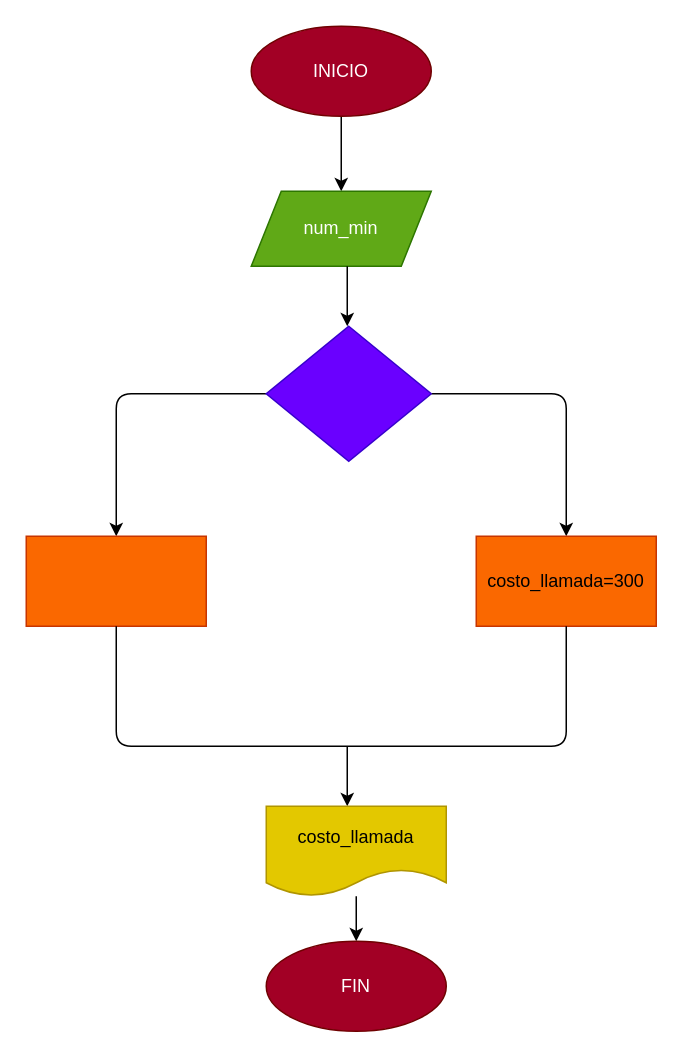
The diagram is 683 pixels wide and 1058 high, and some of its shapes have lost their labels. The shapes that lost their labels are listed below. From the top down, each one's centre as x and y in pixels, then its label:
At point (348, 393): "num_min<=3".
At point (115, 580): "y = x - 3 f = y * 50 j = f + 300".
